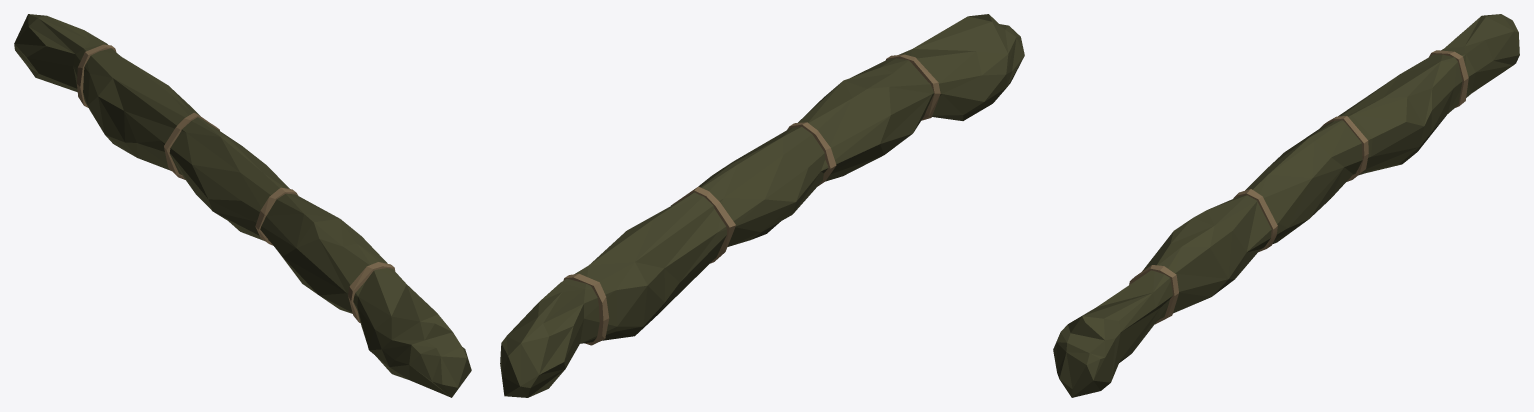
Rendered from SM_Veh_Attach_Cloth_04.fbx.
3 views of the same model, side by side, from view 1: azimuth 30°, elevation 25°; view 2: azimuth 150°, elevation 25°; view 3: azimuth 330°, elevation 25° (orthographic). The views are drawn at different scales.
Parts seen in each view (by area): view 1: SM_Veh_Attach_Cloth_04; view 2: SM_Veh_Attach_Cloth_04; view 3: SM_Veh_Attach_Cloth_04.
Boxes of the visible parts, x1,y1,x2,y2 form: SM_Veh_Attach_Cloth_04: (14, 14, 471, 397); SM_Veh_Attach_Cloth_04: (500, 14, 1024, 397); SM_Veh_Attach_Cloth_04: (1053, 14, 1519, 397).
Bounding box in the file's own units: 27.19 × 33.13 × 274.
